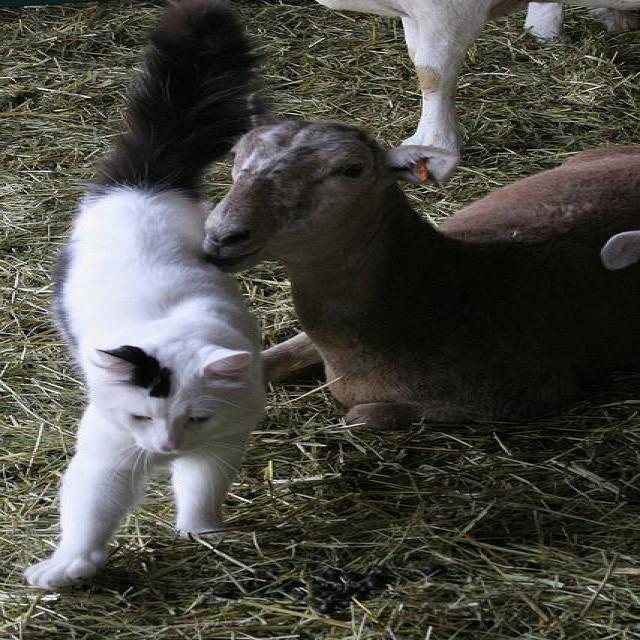Sheep: (192, 119, 638, 433), (314, 2, 638, 177)
